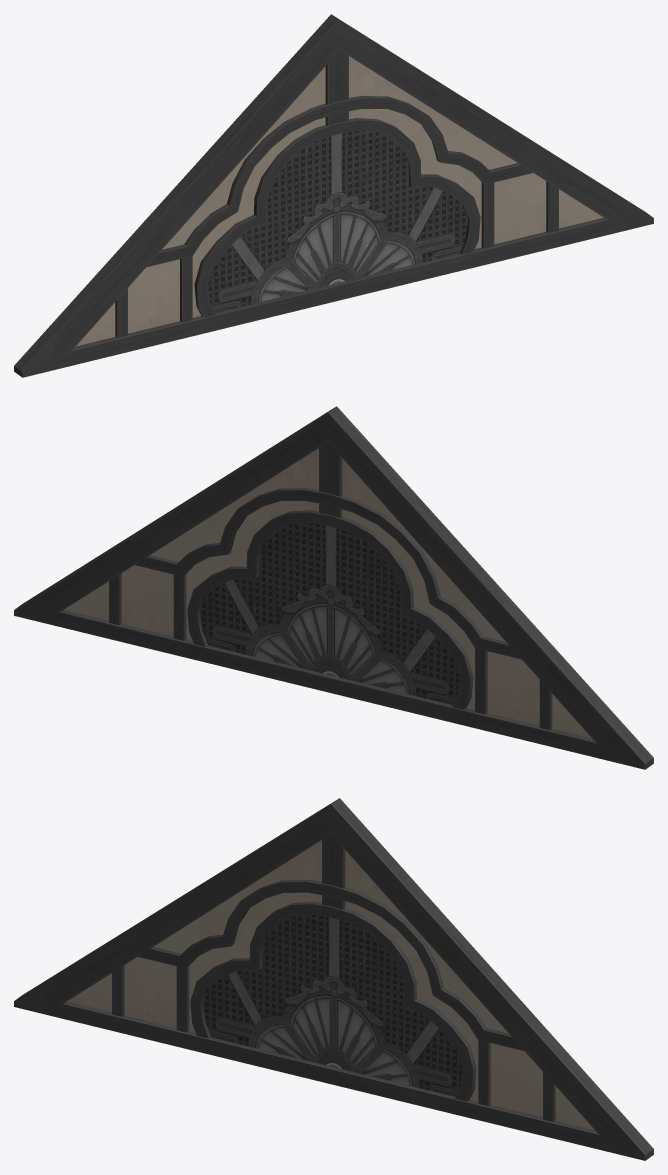
Rendered from Homeworld_Interior_Dq_Room_Ceiling_03_Vo.fbx.
The picture shows the model from 3 angles, top to bottom: view 1: azimuth 30°, elevation 25°; view 2: azimuth 150°, elevation 25°; view 3: azimuth 330°, elevation 25°; orthographic projection.
Parts seen in each view (by area): view 1: Homeworld_Interior_Dq_Room_Ceiling_03_Vo; view 2: Homeworld_Interior_Dq_Room_Ceiling_03_Vo; view 3: Homeworld_Interior_Dq_Room_Ceiling_03_Vo.
Boxes of the visible parts, bbox=[...] form: Homeworld_Interior_Dq_Room_Ceiling_03_Vo: bbox=[14, 14, 653, 377]; Homeworld_Interior_Dq_Room_Ceiling_03_Vo: bbox=[14, 406, 653, 769]; Homeworld_Interior_Dq_Room_Ceiling_03_Vo: bbox=[14, 798, 653, 1160].
Bounding box in the file's own units: 10.38 × 4.4 × 0.2465.
1 material, 1 textured.
